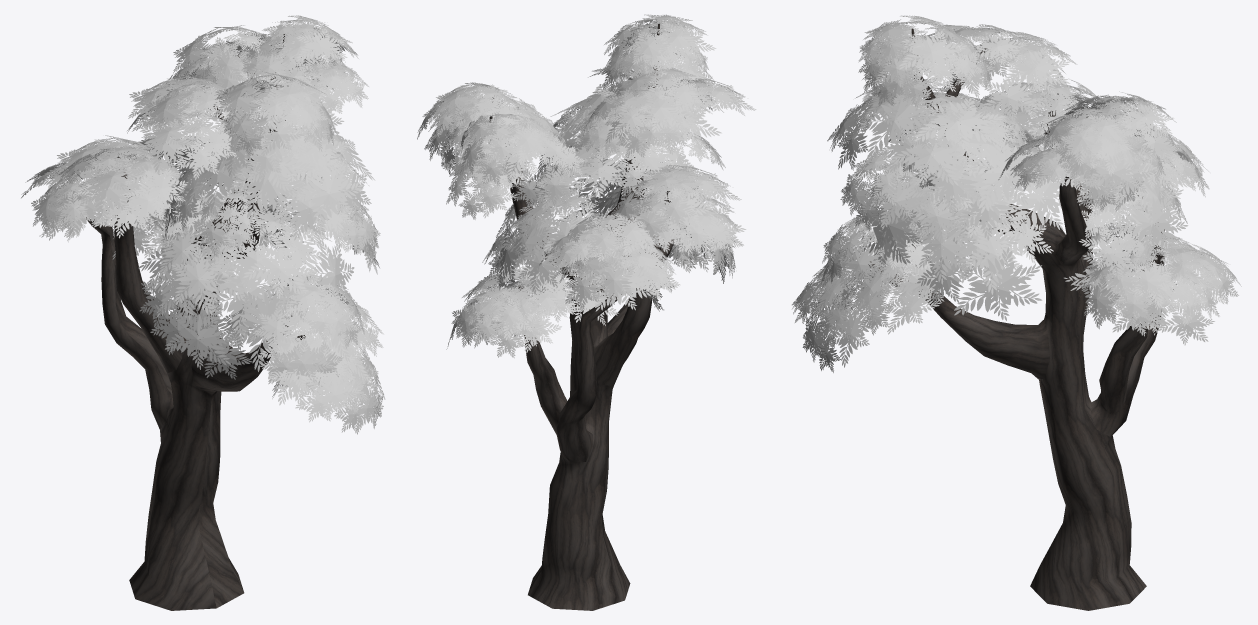
The model's file is tree_03.fbx.
3 renders of one model, left to right at view 1: azimuth 30°, elevation 25°; view 2: azimuth 150°, elevation 25°; view 3: azimuth 270°, elevation 25°, orthographic. The views are drawn at different scales.
Parts seen in each view (by area): view 1: Tree_03_LOD0; view 2: Tree_03_LOD0; view 3: Tree_03_LOD0.
Boxes of the visible parts, box(x1,y1,x2,y2) form: Tree_03_LOD0: box(21, 15, 385, 610); Tree_03_LOD0: box(417, 14, 756, 610); Tree_03_LOD0: box(792, 15, 1241, 610).
Size of what is drawn, in the model's own units: 13.84 by 22.23 by 16.36.
